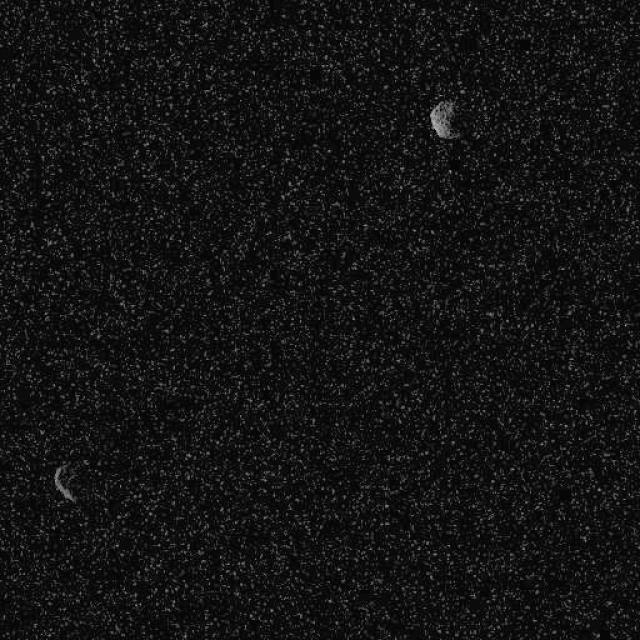D2: (428, 98, 460, 138), (52, 461, 78, 504)
